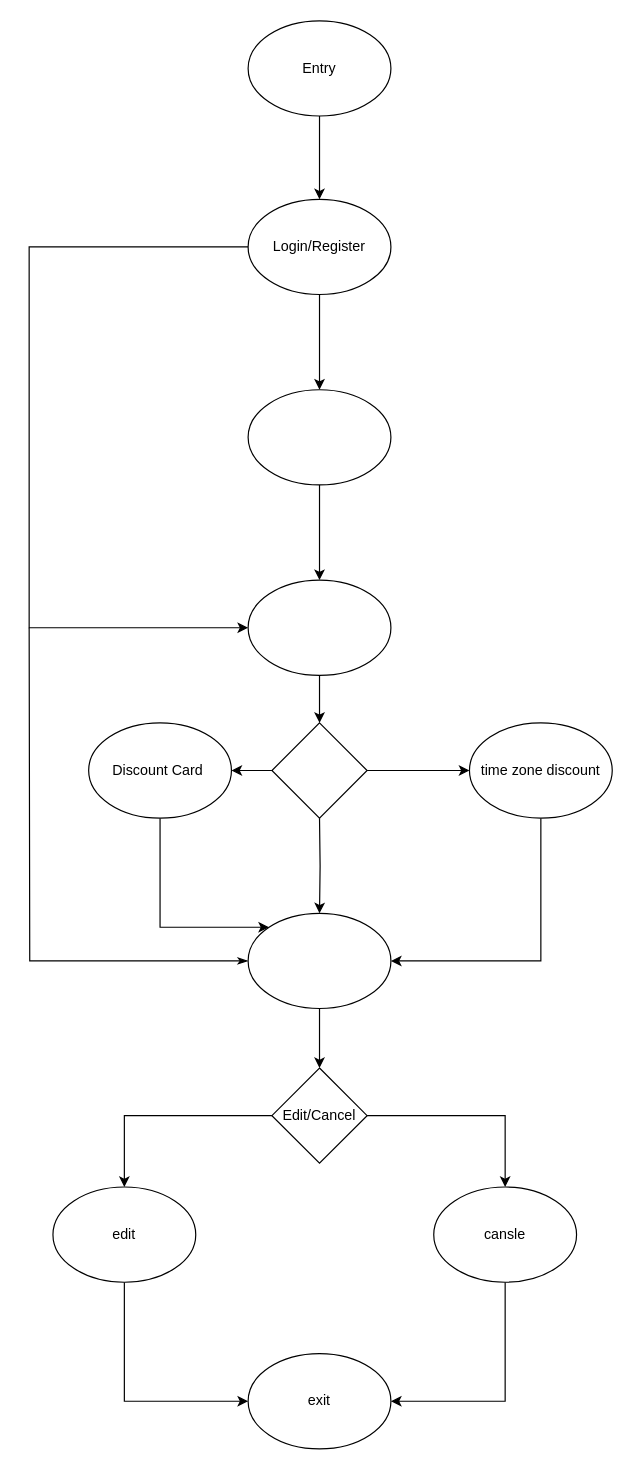
This 633x1470 diagram has some shape labels left out. The shapes that lost their labels are listed below. From the top down, each one's box as (x1, y1, x2, y2) in pixels, then its label:
(247, 389, 391, 485): Apply for Discount Card
(247, 579, 391, 675): Add Ticket to Cart
(271, 722, 367, 818): apply discount
(247, 912, 391, 1009): Check added tickets
